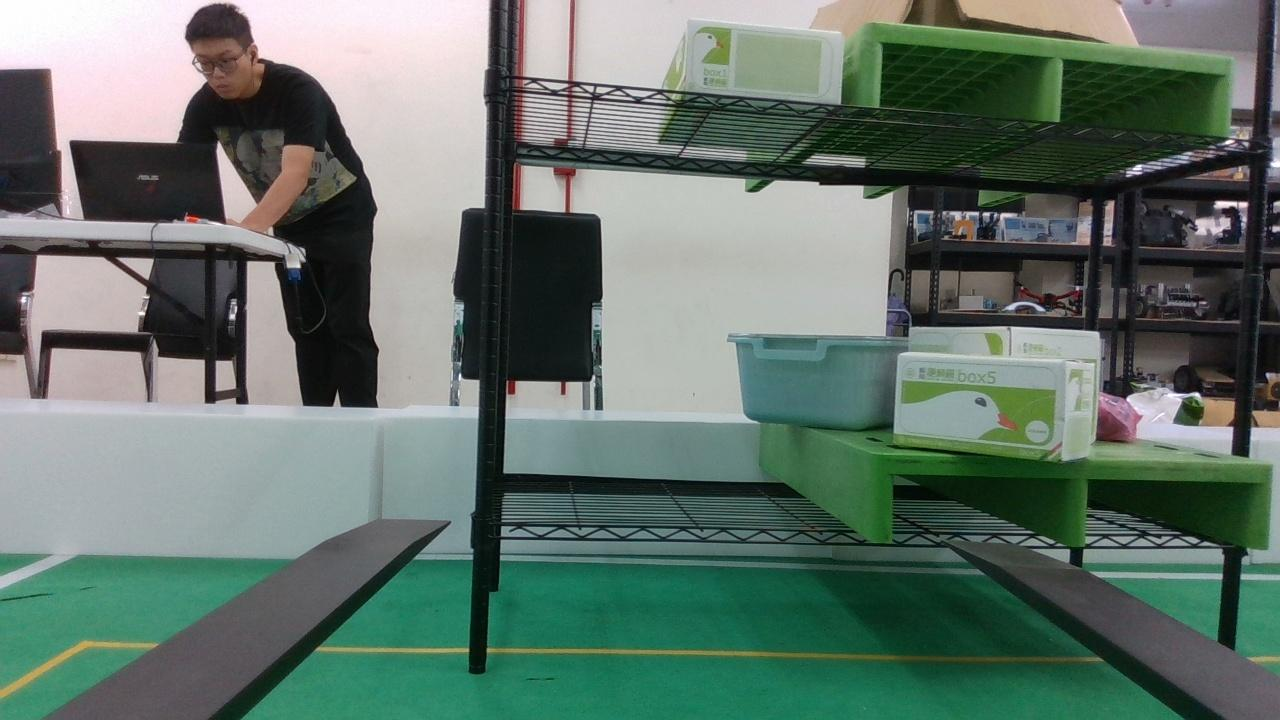Pallet: (860, 23, 1237, 140), (869, 452, 1273, 549)
